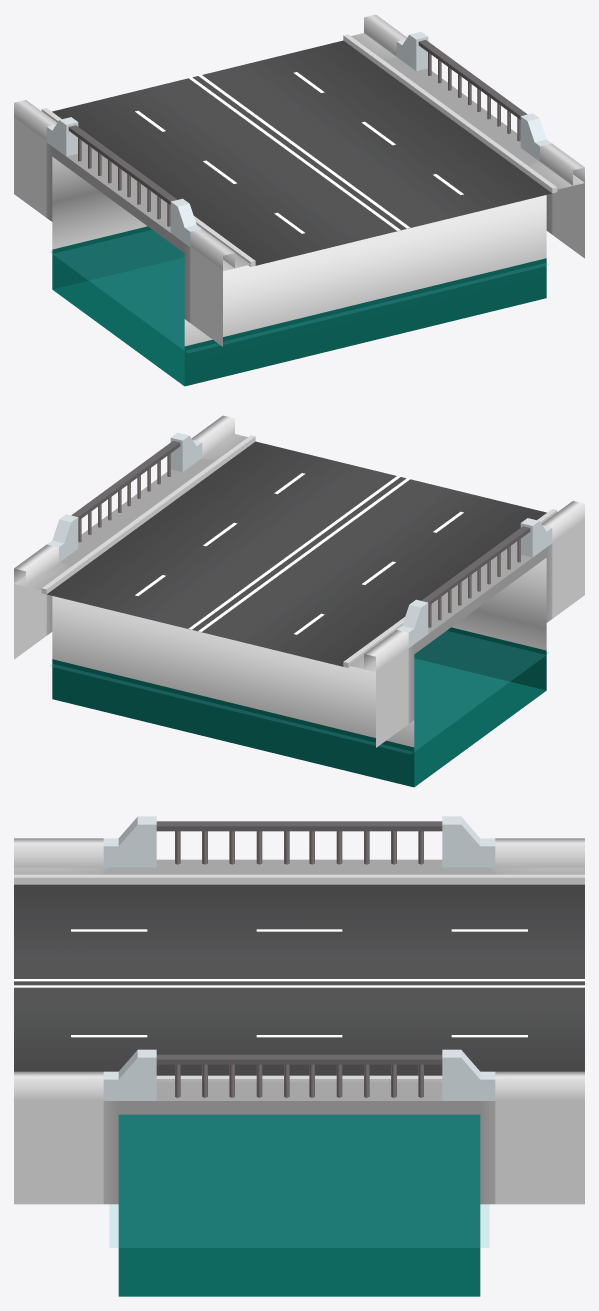
File: road_035.glb
The picture shows the model from 3 angles, top to bottom: view 1: azimuth 30°, elevation 25°; view 2: azimuth 150°, elevation 25°; view 3: azimuth 270°, elevation 25°; orthographic projection. The views are drawn at different scales.
Parts seen in each view (by area): view 1: road_035; view 2: road_035; view 3: road_035.
Boxes of the visible parts, bbox=[...] form: road_035: bbox=[14, 14, 584, 386]; road_035: bbox=[14, 415, 584, 787]; road_035: bbox=[14, 816, 584, 1296].
Size of the model in its own units: 15 by 6.92 by 15.
2 materials, 2 textured.
